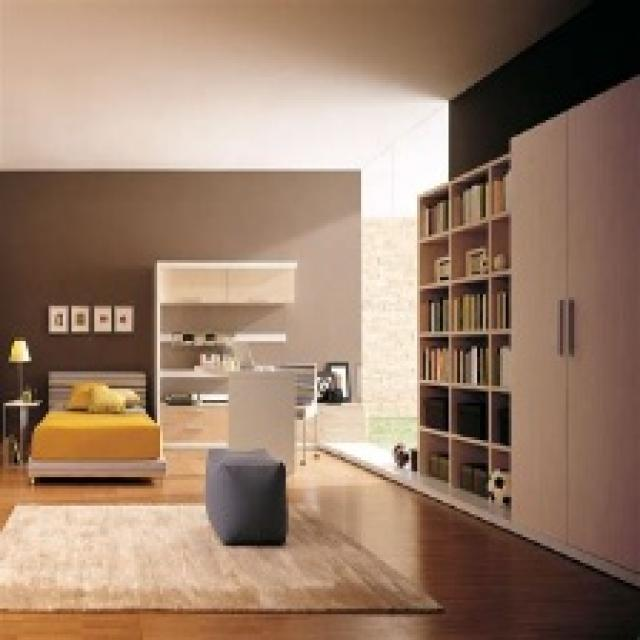bed: (28, 358, 174, 492)
chair: (226, 363, 322, 475)
lamp: (9, 330, 35, 401)
